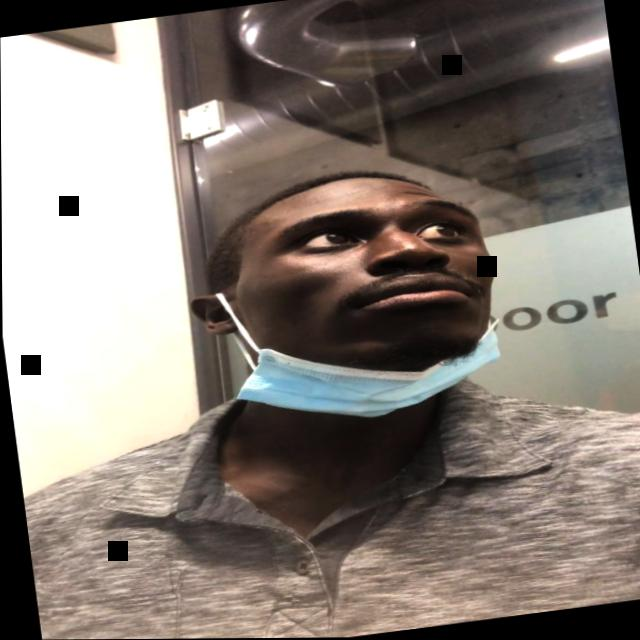NO-Mask: (214, 176, 505, 387)
